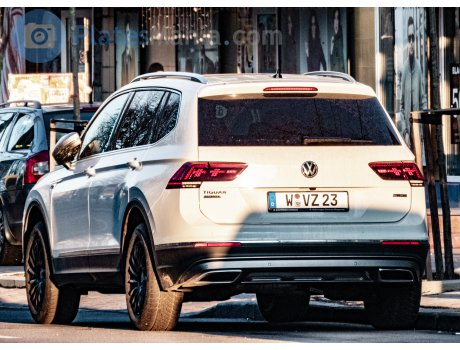License Plates: (268, 188, 342, 208)
